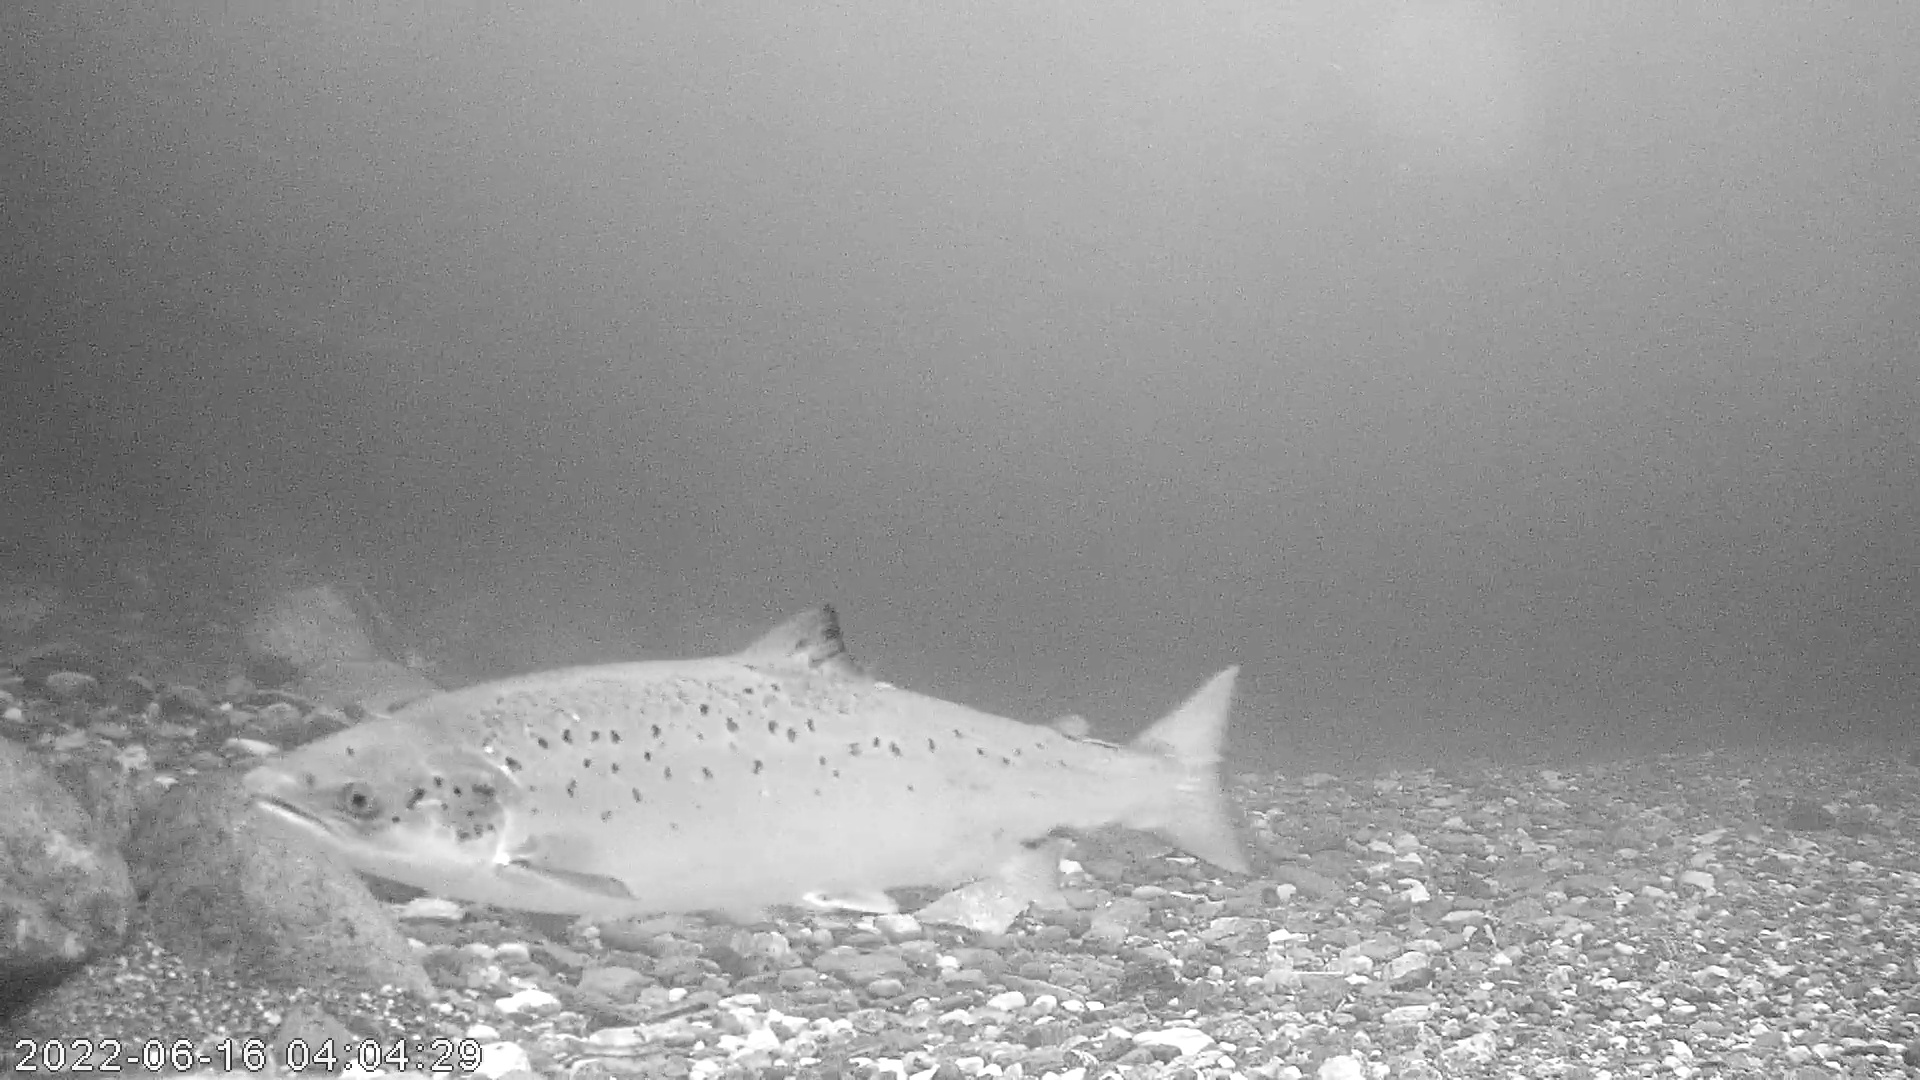salmon: (240, 601, 1251, 918)
